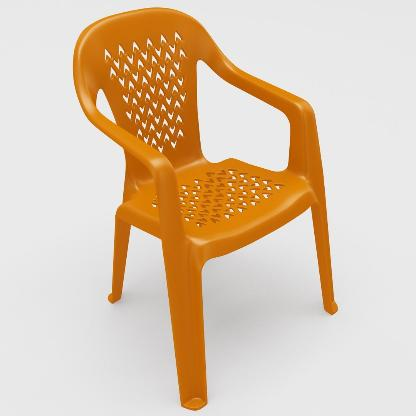chair: (64, 2, 352, 416)
